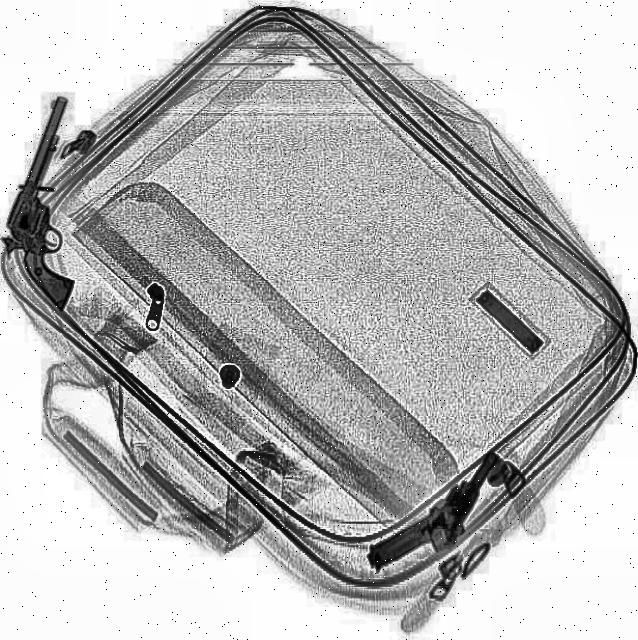Gun: (1, 98, 132, 292), (362, 453, 530, 592)
